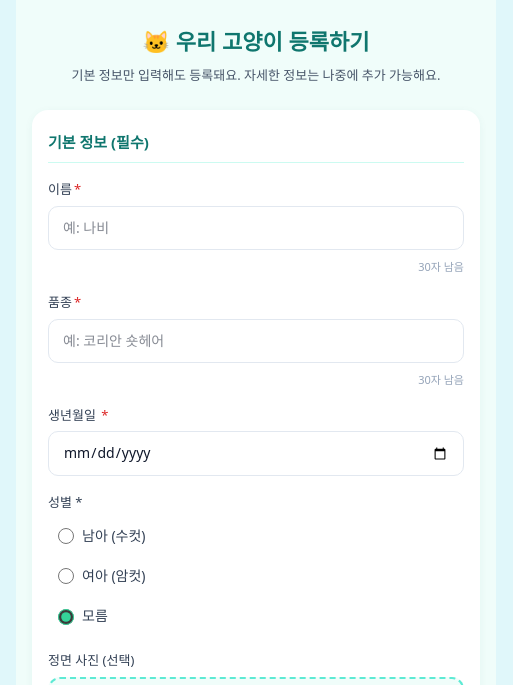
Scenario: CatRegistrationScreen fix R4-2 › 2) M5 — validation 에러에 weightKg 포함 + showOptional=false → 자동 펼침 + 배너 표시
This screenshot has width=513, height=685.
In the field labelled "이름*": [256, 228] box [48, 206, 464, 250], type "나비"
In the field labelled "품종*": [256, 341] box [48, 319, 464, 363], type "코리안 숏헤어"
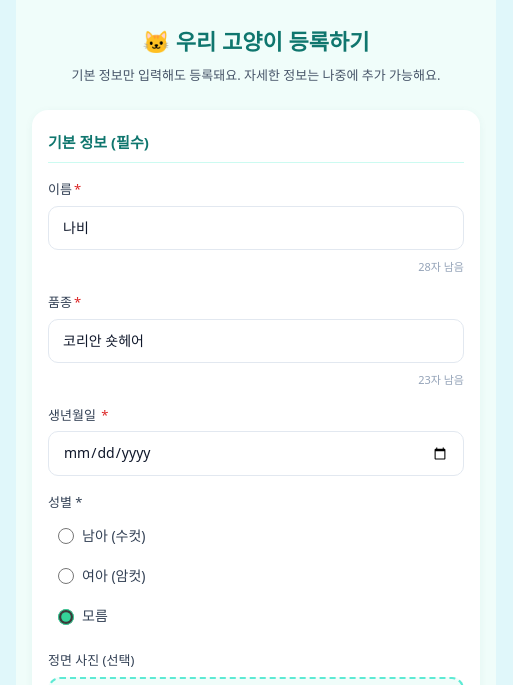
In the date field labelled "생년월일 *": [256, 454] box [48, 431, 464, 476], type "2020-01-01"
(page scrolled)
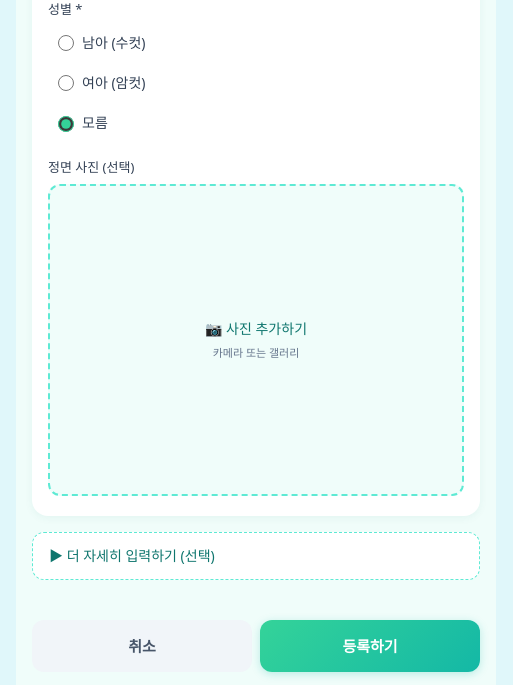
Click the button "▶ 더 자세히 입력하기 (선택)": [132, 555] box [32, 532, 480, 580]
(page scrolled)
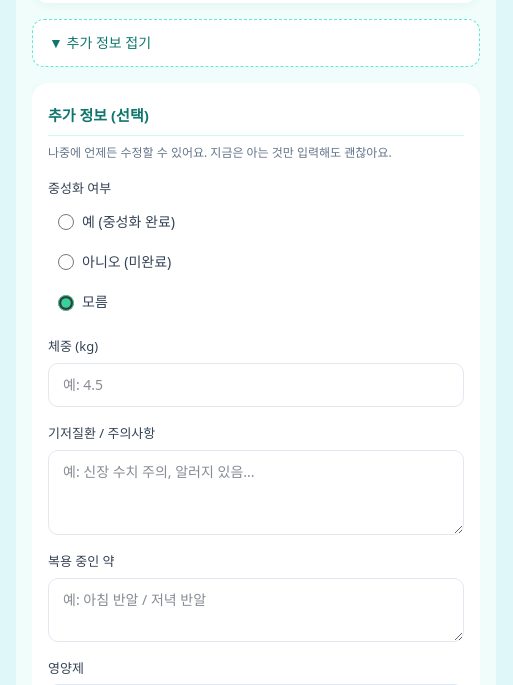
In the number field labelled "체중 (kg)": [256, 385] box [48, 363, 464, 407], type "50"
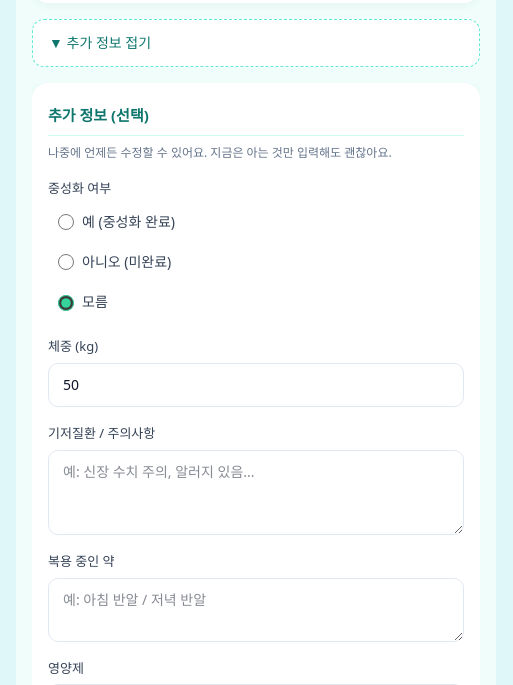
Click the button "▼ 추가 정보 접기": [100, 42] box [32, 18, 480, 67]
(page scrolled)
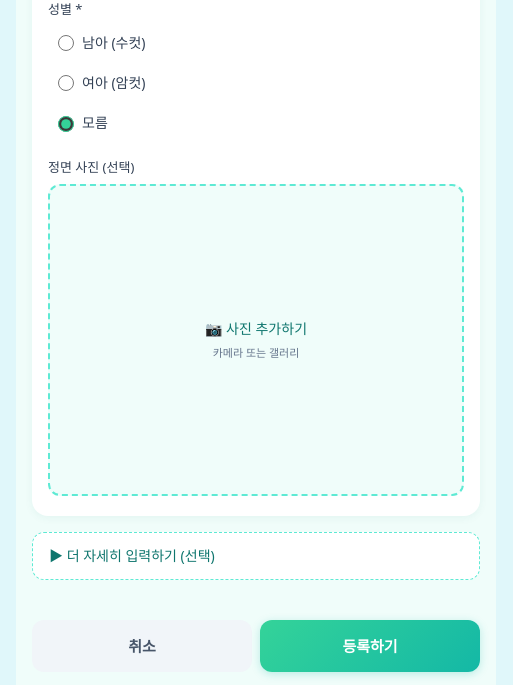
Click the button "등록하기": [370, 646] box [260, 620, 480, 672]
(page scrolled)
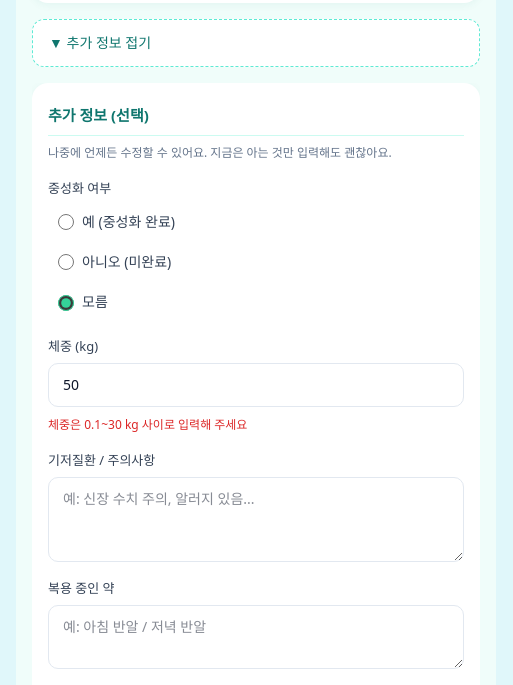
Result: the button "▼ 추가 정보 접기" is shown at [32, 18, 480, 67]
